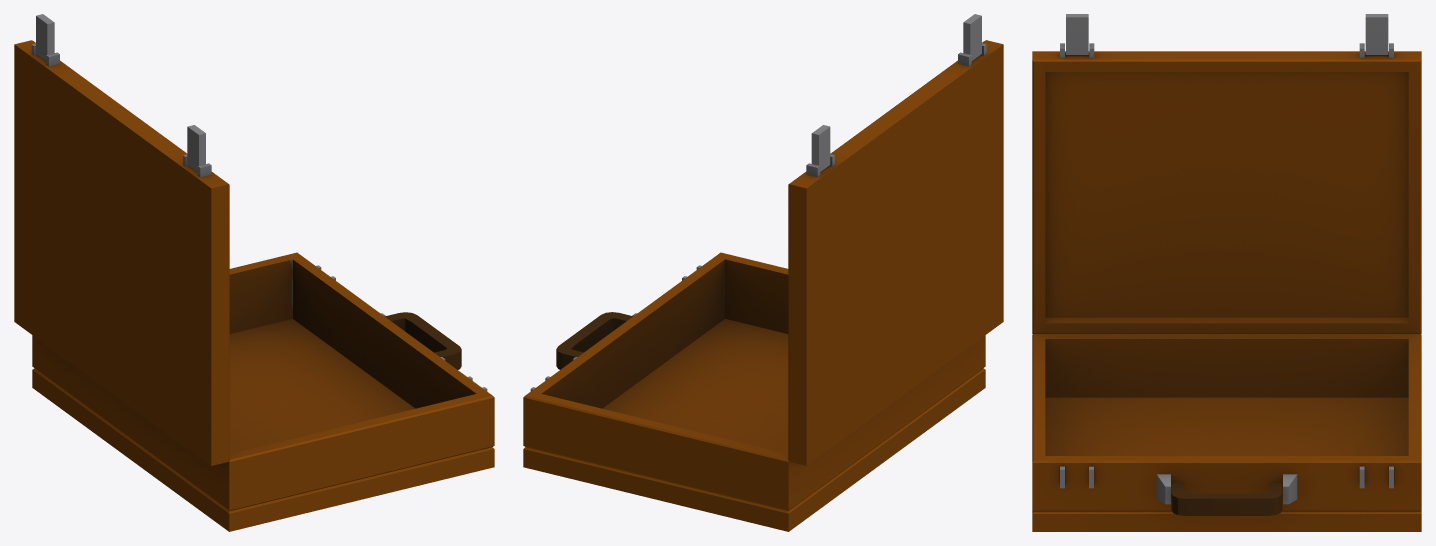
File: briefCase 1.FBX
3 views of the same model, side by side, from view 1: azimuth 30°, elevation 25°; view 2: azimuth 150°, elevation 25°; view 3: azimuth 270°, elevation 25° (orthographic).
Visible parts, largest first — view 1: briefcaseBody, briefcaseLit, briefcaseClipLeft, briefcaseClipRight; view 2: briefcaseBody, briefcaseLit, briefcaseClipRight, briefcaseClipLeft; view 3: briefcaseLit, briefcaseBody, briefcaseClipRight, briefcaseClipLeft.
Part boxes in pixels (left/top/right/bottom): briefcaseBody: left=32, top=252, right=494, bottom=531; briefcaseLit: left=14, top=40, right=229, bottom=465; briefcaseClipLeft: left=187, top=125, right=205, bottom=171; briefcaseClipRight: left=36, top=14, right=54, bottom=60; briefcaseBody: left=523, top=252, right=985, bottom=531; briefcaseLit: left=788, top=40, right=1003, bottom=465; briefcaseClipRight: left=811, top=125, right=830, bottom=171; briefcaseClipLeft: left=963, top=14, right=981, bottom=60; briefcaseLit: left=1032, top=43, right=1421, bottom=333; briefcaseBody: left=1032, top=334, right=1421, bottom=531; briefcaseClipRight: left=1365, top=14, right=1388, bottom=54; briefcaseClipLeft: left=1066, top=14, right=1088, bottom=54.
Size of the model in its own units: 16.91 by 19.25 by 17.72.
Materials: 1 (1 with a texture image).
